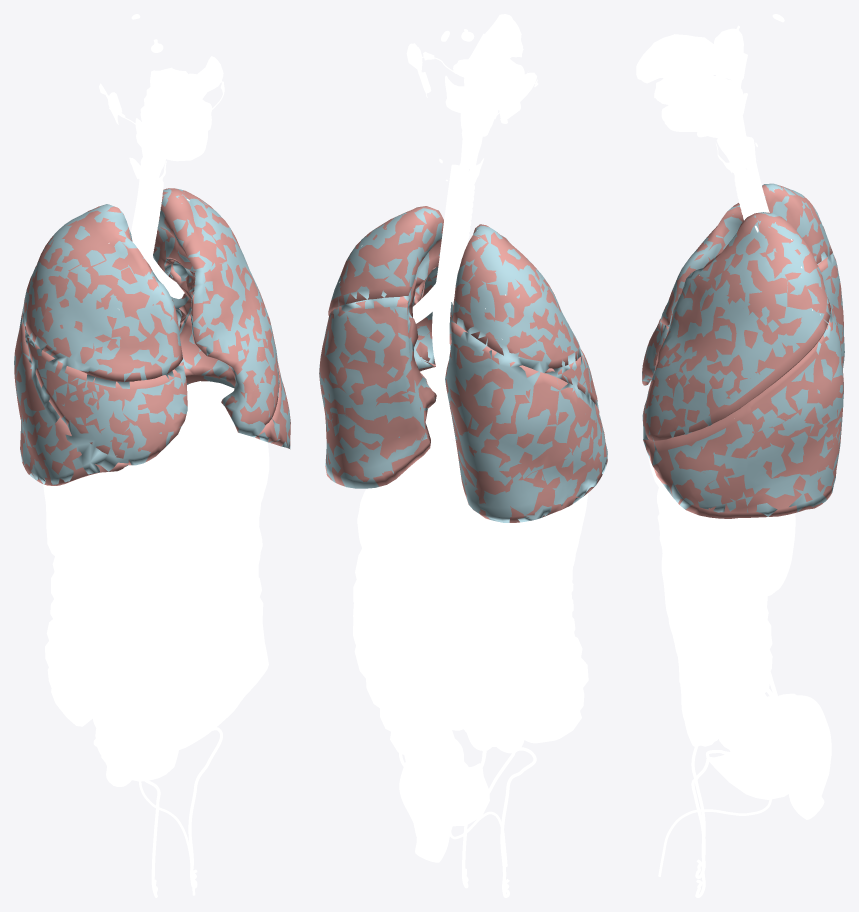
Rendered from visceral.glb.
The picture shows the model from 3 angles, left to right: view 1: azimuth 30°, elevation 25°; view 2: azimuth 150°, elevation 25°; view 3: azimuth 270°, elevation 25°; orthographic projection. The views are drawn at different scales.
Visible parts, largest first — view 1: Greater omentum, Pleura, Liver, Superior lobe of right lung, Superior lobe of left lung, Middle lobe of right lung, Ascending colon, Inferior lobe of right lung, Stomach, Gingiva, Inferior lobe of left lung, Urinary bladder (+7 smaller); view 2: Pleura, Jejunum.001, Inferior lobe of right lung, Inferior lobe of left lung, Ascending colon, Descending colon, Superior lobe of right lung, Sigmoid colon, Superior lobe of left lung, Liver, Kidney.l, Oesophagus.001 (+21 smaller); view 3: Pleura, Superior lobe of left lung, Inferior lobe of left lung, Descending colon, Greater omentum, Sigmoid colon, Mucosa of nasal cavity, Superior lobe of right lung, Urinary bladder, Kidney.l, Gingiva, Stomach (+15 smaller).
Boxes of the visible parts, x1,y1,x2,y2 form: Greater omentum: (64,500,268,753); Pleura: (14,188,290,484); Liver: (43,381,261,561); Superior lobe of right lung: (24,206,182,381); Superior lobe of left lung: (153,188,279,432); Middle lobe of right lung: (24,326,187,465); Ascending colon: (45,556,98,726); Inferior lobe of right lung: (14,308,128,485); Stomach: (170,440,269,537); Gingiva: (135,98,212,161); Inferior lobe of left lung: (175,308,290,448); Urinary bladder: (101,736,178,781); Pleura: (319,208,607,522); Jejunum.001: (391,530,533,753); Inferior lobe of right lung: (445,322,607,522); Inferior lobe of left lung: (319,296,436,486); Ascending colon: (516,566,588,743); Descending colon: (353,548,465,777); Superior lobe of right lung: (452,224,579,368); Sigmoid colon: (399,731,463,862); Superior lobe of left lung: (328,206,451,364); Liver: (420,367,588,576); Kidney.l: (357,485,418,576); Oesophagus.001: (432,164,468,441); Pleura: (642,183,844,516); Superior lobe of left lung: (643,212,830,440); Inferior lobe of left lung: (643,302,843,518); Descending colon: (714,531,818,762); Greater omentum: (657,502,727,746); Sigmoid colon: (789,695,831,819); Mucosa of nasal cavity: (636,34,711,83); Superior lobe of right lung: (660,185,832,325); Urinary bladder: (709,754,798,799); Kidney.l: (754,513,795,596); Gingiva: (654,74,718,131); Stomach: (657,484,740,540).
Size of the model in its own units: 0.2618 by 0.8867 by 0.192.
